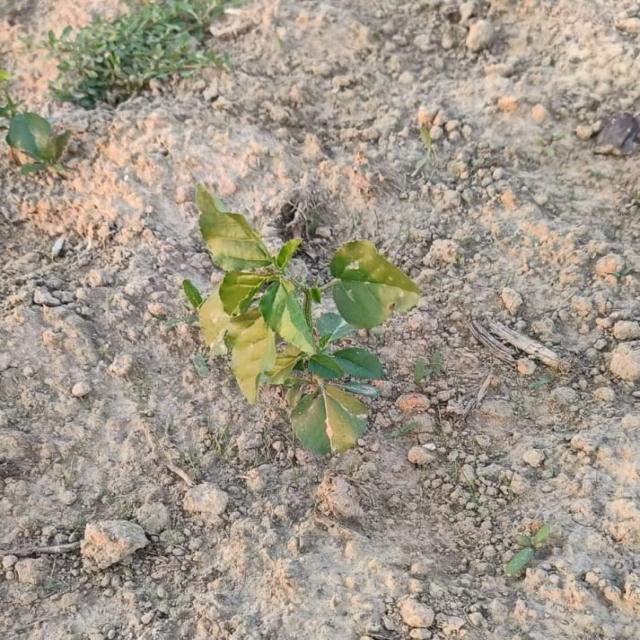weed: (183, 184, 419, 455)
